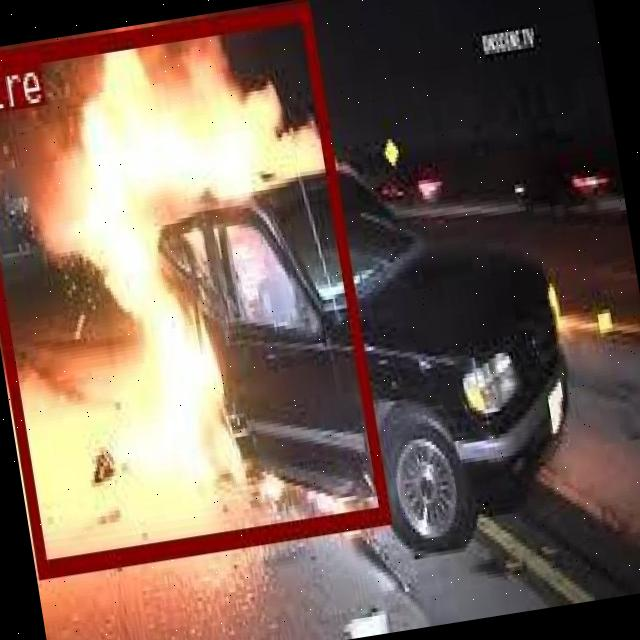fire: (0, 0, 389, 575)
